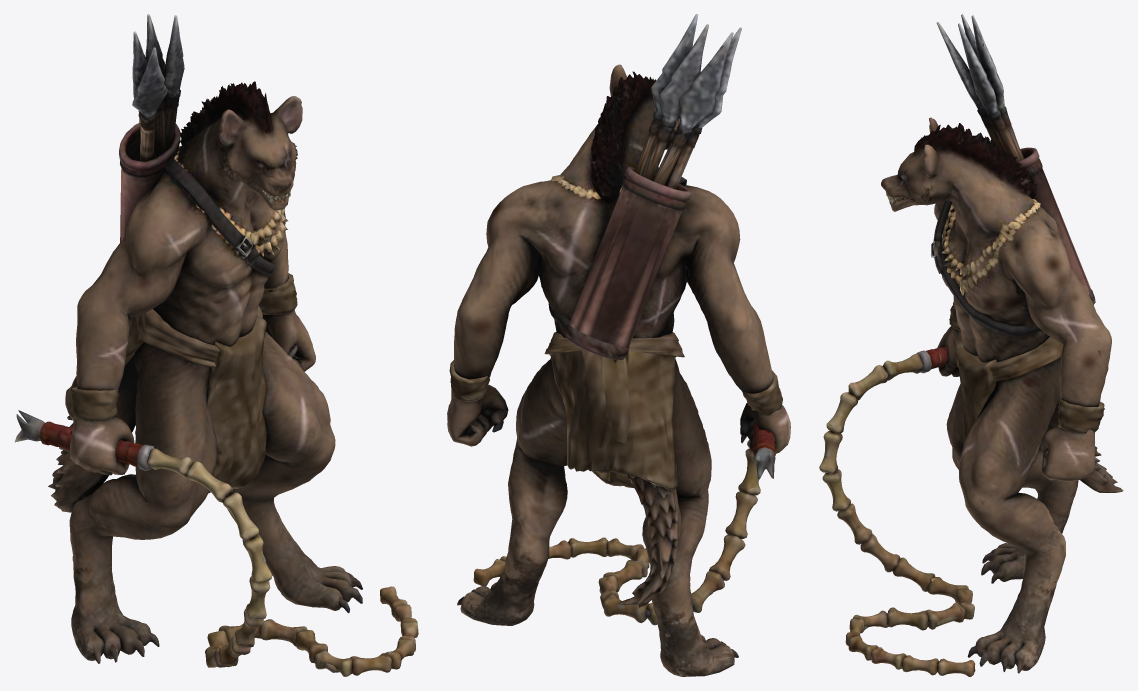
Rendered from MZ4250 - Gnoll Pack Lord_2025_hyena.glb.
3 views of the same model, side by side, from view 1: azimuth 30°, elevation 25°; view 2: azimuth 150°, elevation 25°; view 3: azimuth 270°, elevation 25° (orthographic). The views are drawn at different scales.
Visible parts, largest first — view 1: Body.001; view 2: Body.001; view 3: Body.001.
Boxes of the visible parts, <box> form: Body.001: <box>14,14,418,676</box>; Body.001: <box>447,14,790,676</box>; Body.001: <box>819,14,1123,676</box>.
Size of the model in its own units: 74.04 by 132 by 64.88.
Materials: 4 (4 with a texture image).
